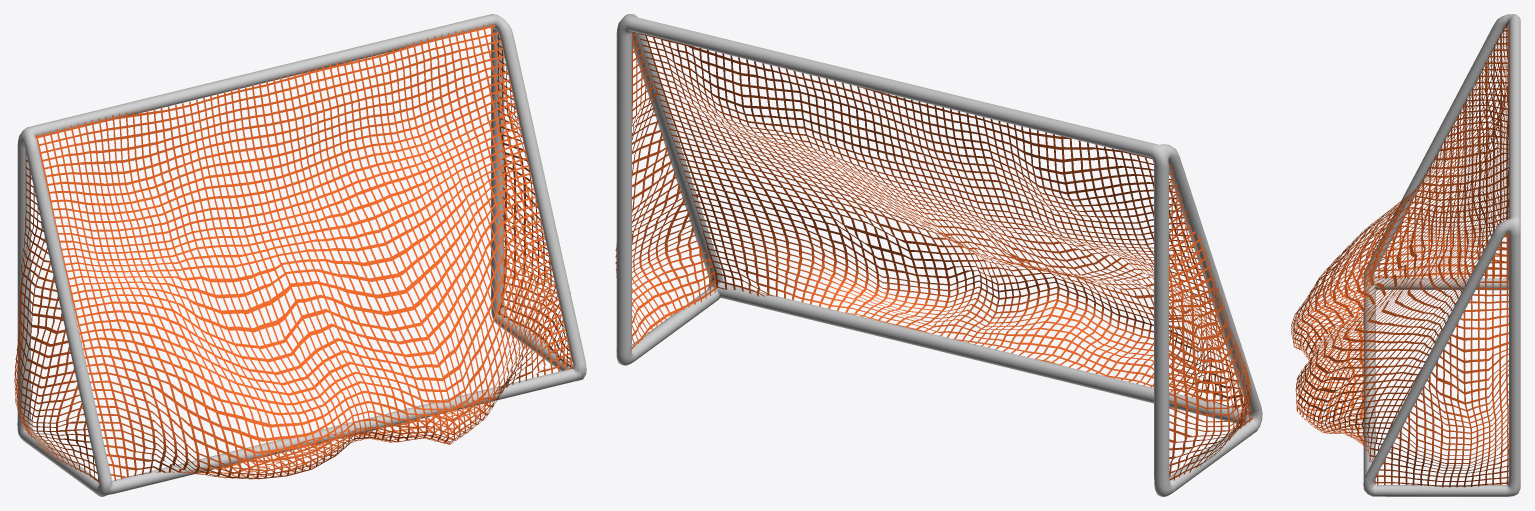
Rendered from Gates.fbx.
The picture shows the model from 3 angles, left to right: view 1: azimuth 30°, elevation 25°; view 2: azimuth 150°, elevation 25°; view 3: azimuth 270°, elevation 25°; orthographic projection. The views are drawn at different scales.
Visible parts, largest first — view 1: Gate_Net, Gates; view 2: Gate_Net, Gates; view 3: Gate_Net, Gates.
Part boxes in pixels (left/top/right/bottom): Gate_Net: left=14, top=23, right=573, bottom=483; Gates: left=17, top=14, right=586, bottom=496; Gate_Net: left=615, top=31, right=1252, bottom=480; Gates: left=616, top=14, right=1262, bottom=496; Gate_Net: left=1291, top=21, right=1509, bottom=487; Gates: left=1363, top=14, right=1520, bottom=496.
Bounding box in the file's own units: 5.09 × 2.82 × 2.12.
